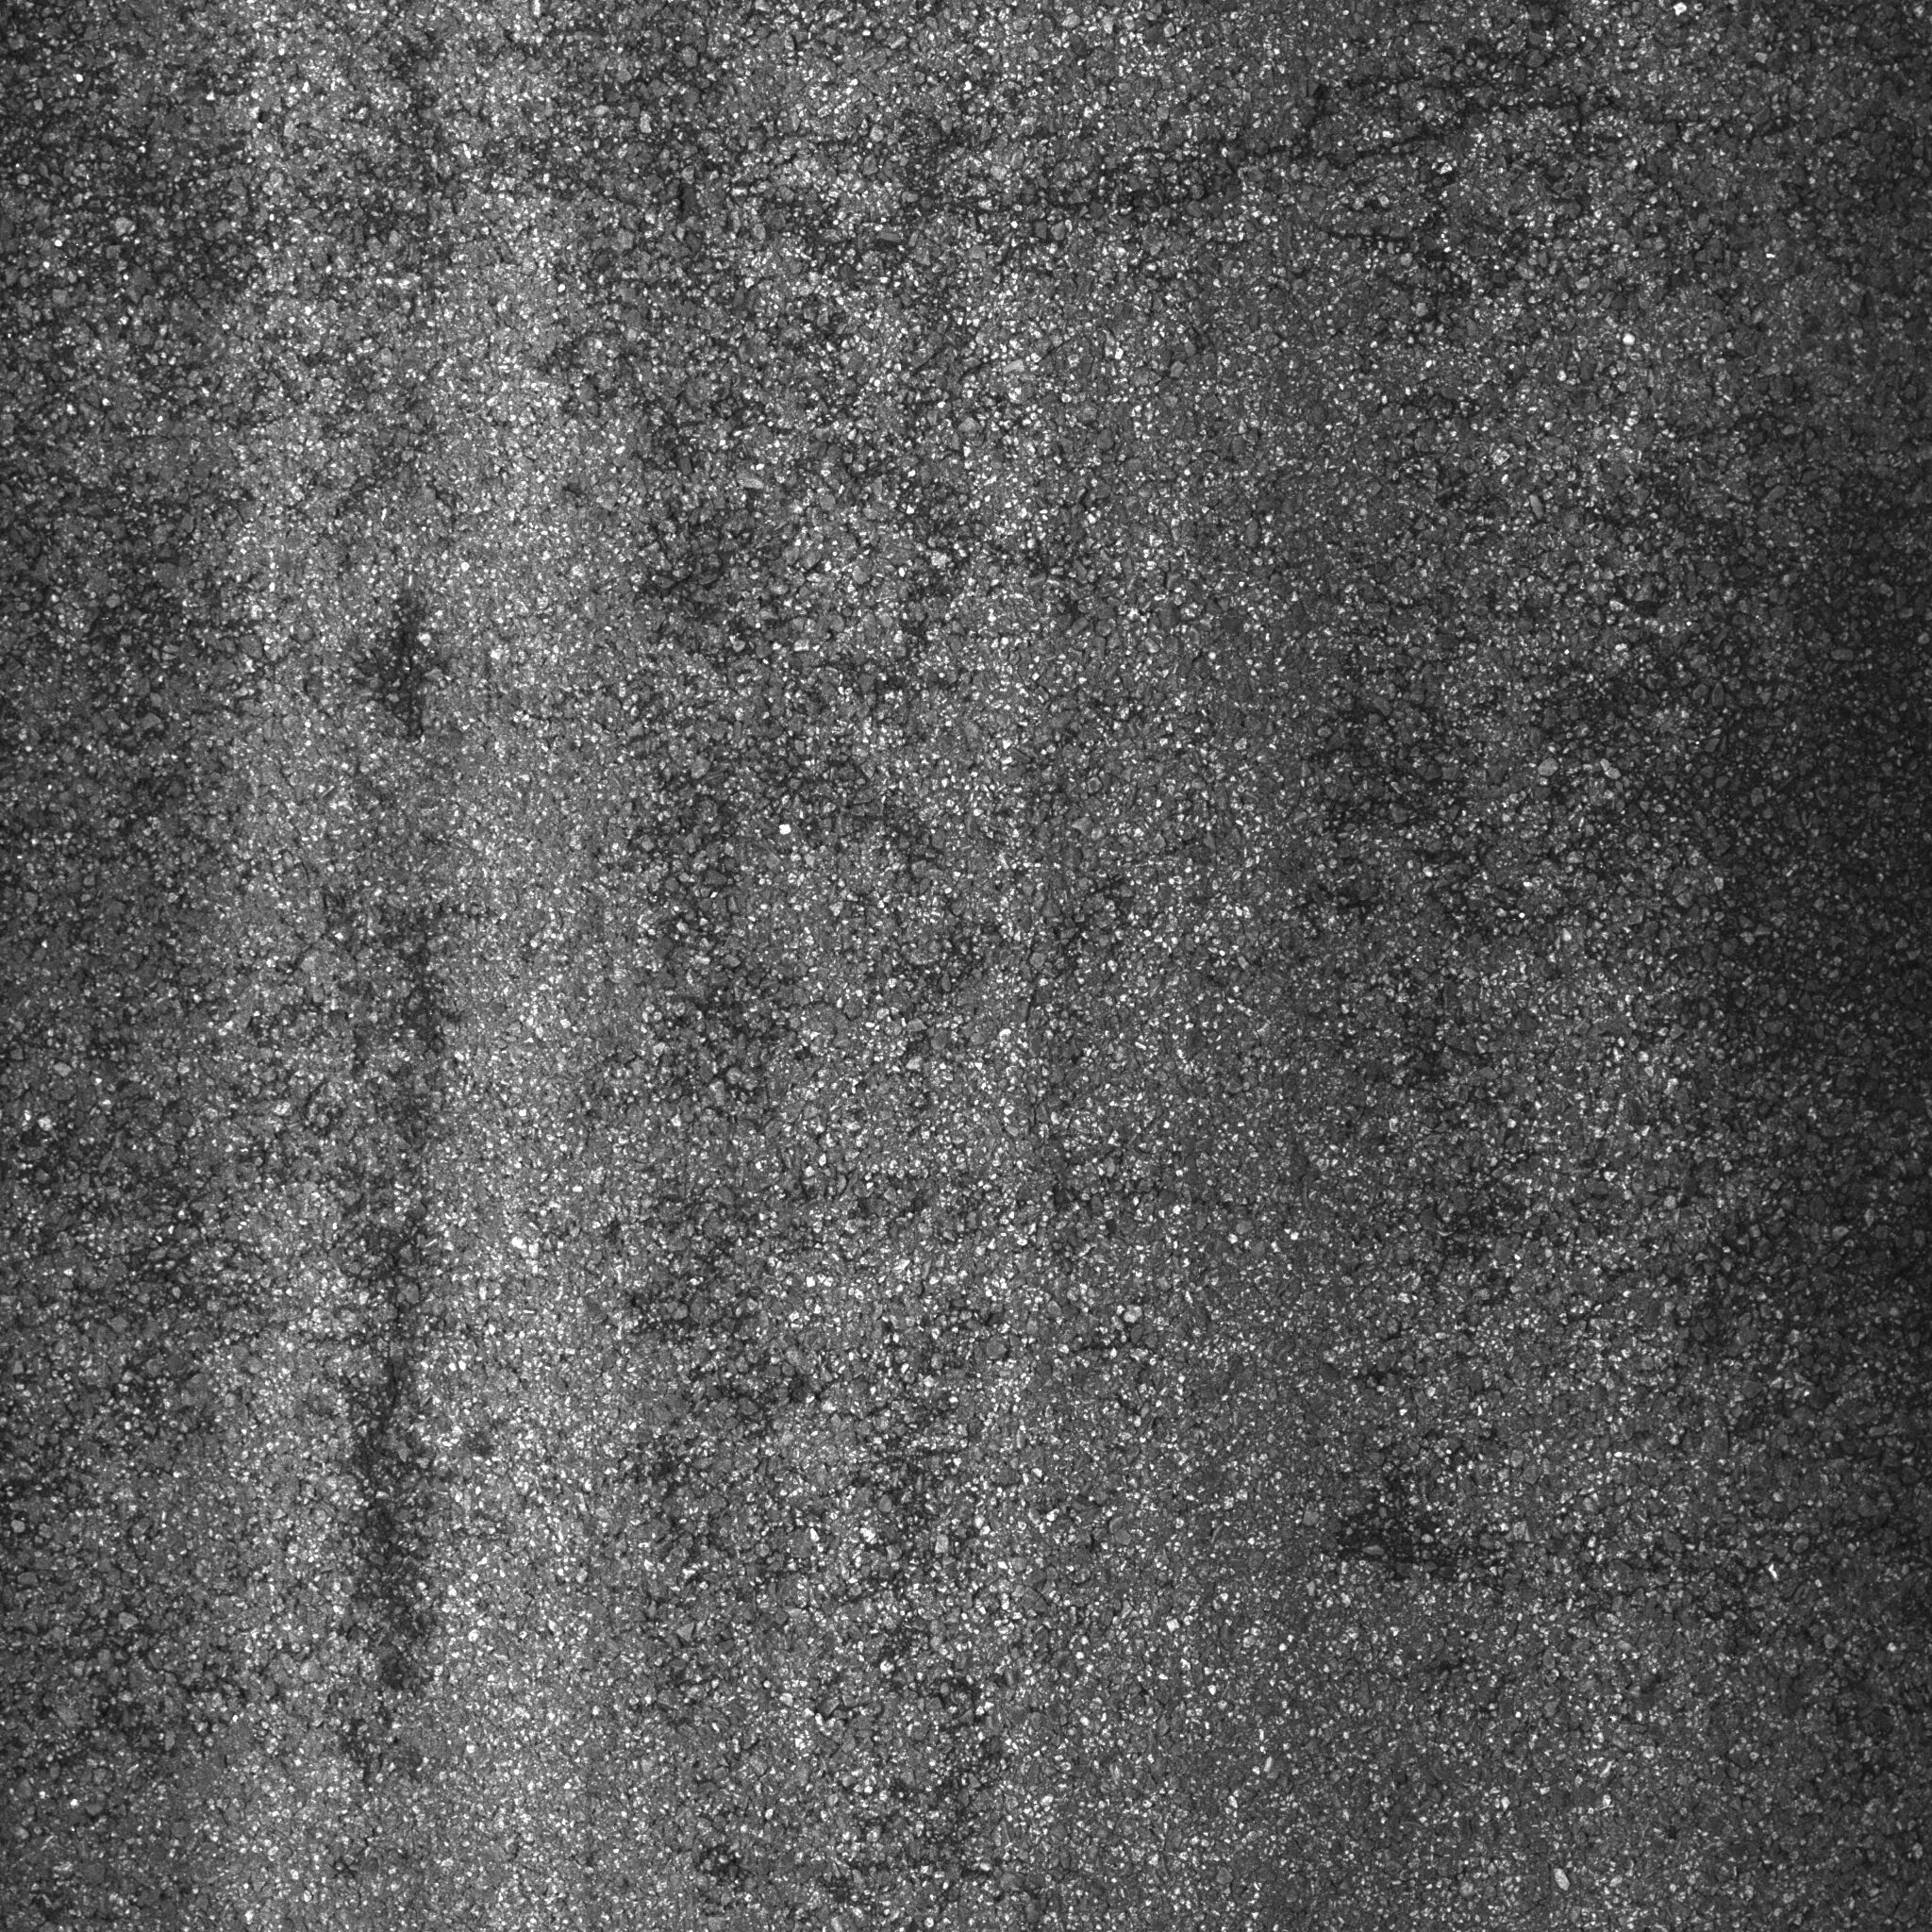transeverse: (1014, 48, 1775, 246), (778, 1141, 1361, 1256)
